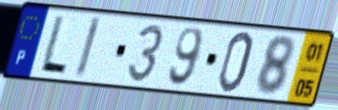0: (216, 29, 256, 95)
3: (123, 22, 167, 84)
8: (255, 33, 296, 99)
9: (167, 26, 205, 88)
I: (72, 14, 104, 81)
L: (36, 13, 70, 77)
